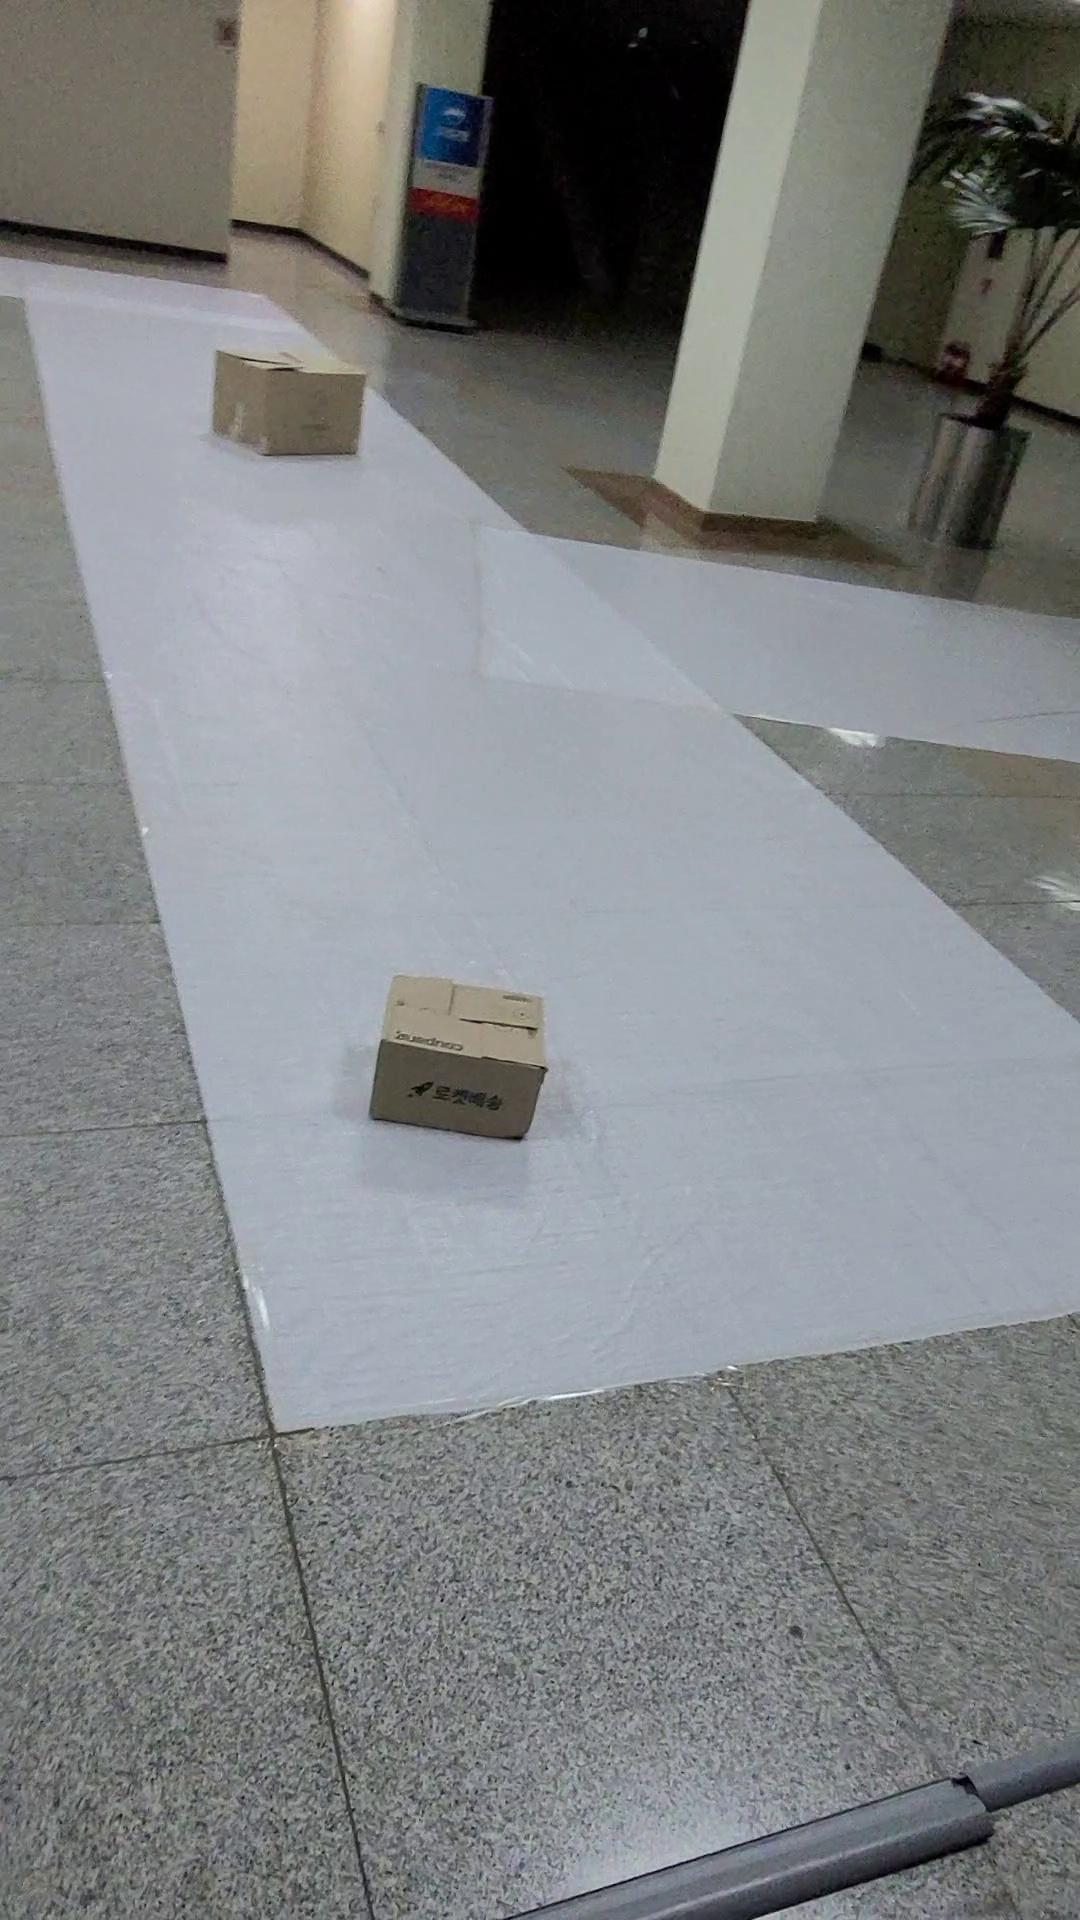Box: (342, 963, 597, 1168), (175, 324, 407, 506)
